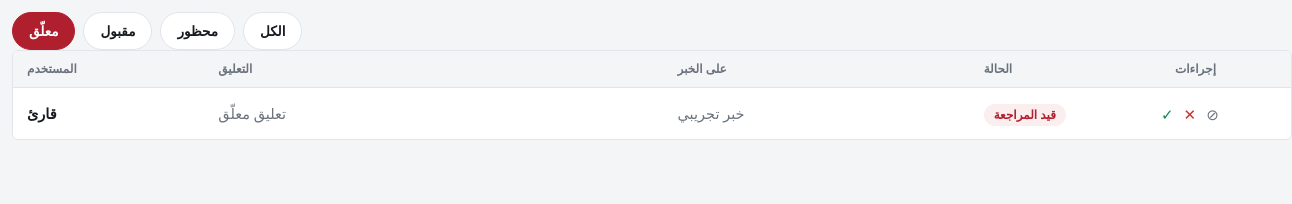
it: CommentsManager › reverts the moderation status and reports the failure
The image size is (1292, 204).
Click the text titled "قبول": (1167,114) [1161,102,1174,125]
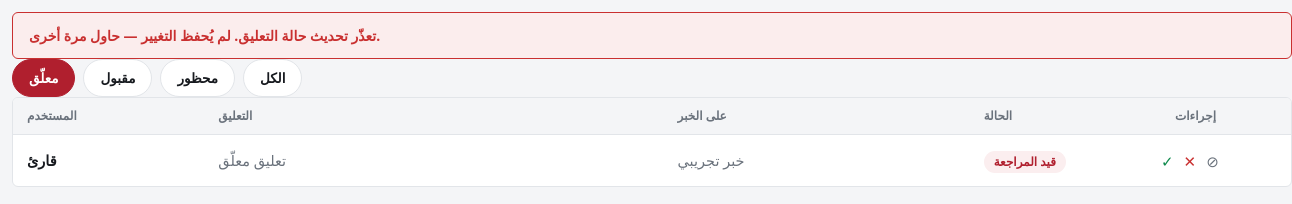
Expected: the text "تعليق معلّق" is shown, [218,150,286,170]
Result: the message shows "تعذّر تحديث حالة التعليق" at [29,26,380,45]
